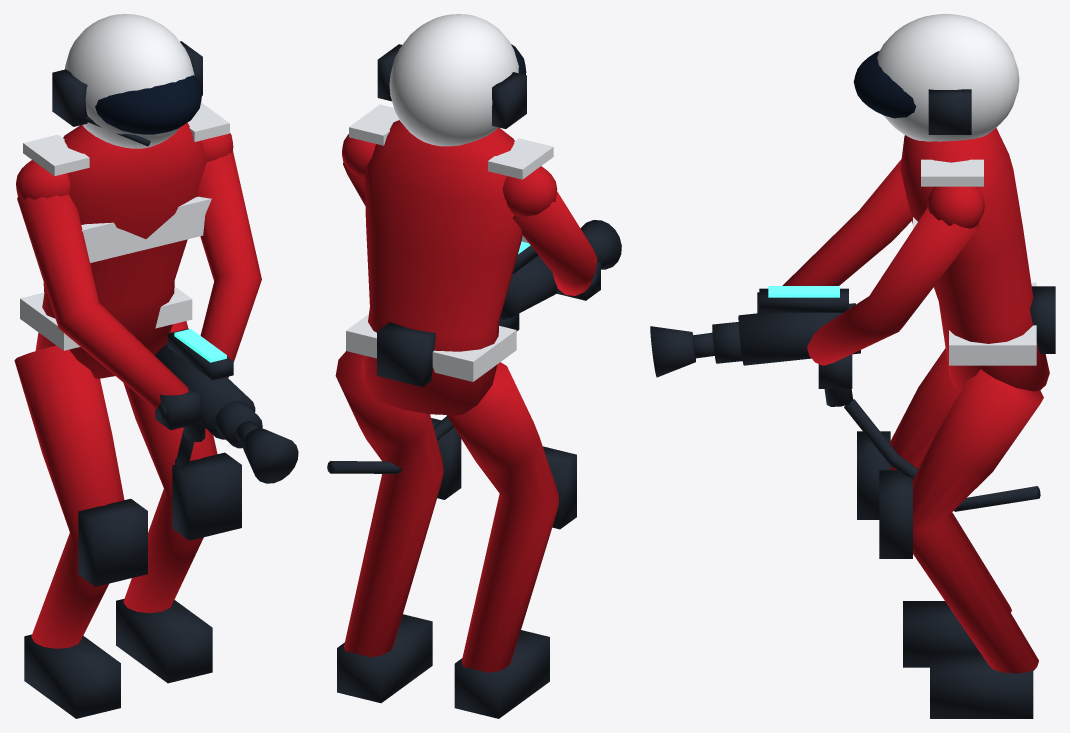
Rendered from pit_crew.glb.
3 renders of one model, left to right at view 1: azimuth 30°, elevation 25°; view 2: azimuth 150°, elevation 25°; view 3: azimuth 270°, elevation 25°, orthographic.
Visible parts, largest first — view 1: Crew_Suit, Crew_Equipment, Crew_Helmet, Crew_Chest_Stripe, Crew_Visor, Crew_Gun_LED; view 2: Crew_Suit, Crew_Equipment, Crew_Helmet, Crew_Chest_Stripe; view 3: Crew_Suit, Crew_Equipment, Crew_Helmet, Crew_Chest_Stripe, Crew_Visor, Crew_Gun_LED.
Boxes of the visible parts, x1,y1,x2,y2 form: Crew_Suit: [14, 122, 261, 648]; Crew_Equipment: [24, 41, 298, 718]; Crew_Helmet: [64, 14, 194, 148]; Crew_Chest_Stripe: [20, 102, 229, 350]; Crew_Visor: [95, 75, 201, 134]; Crew_Gun_LED: [174, 328, 226, 362]; Crew_Suit: [335, 120, 597, 673]; Crew_Equipment: [327, 44, 621, 718]; Crew_Helmet: [389, 14, 518, 146]; Crew_Chest_Stripe: [346, 104, 553, 381]; Crew_Suit: [782, 128, 1049, 673]; Crew_Equipment: [650, 89, 1055, 718]; Crew_Helmet: [877, 14, 1019, 141]; Crew_Chest_Stripe: [913, 159, 1036, 365]; Crew_Visor: [853, 51, 916, 118]; Crew_Gun_LED: [768, 286, 839, 297].
Size of the model in its own units: 0.5423 by 1.63 by 0.9027.
